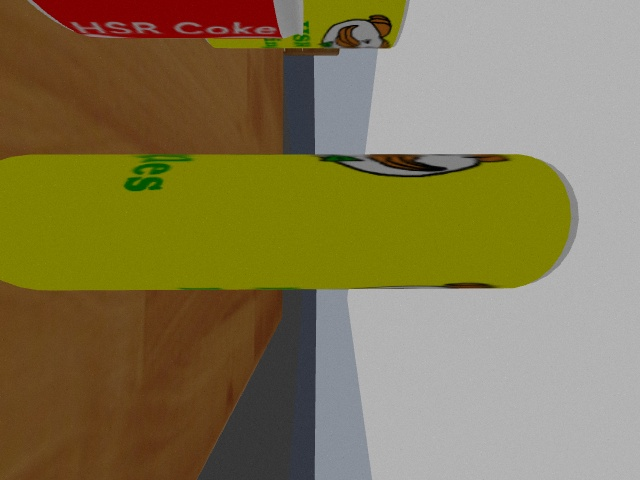chipsdose_gelb: (1, 154, 579, 290), (205, 1, 411, 49)
